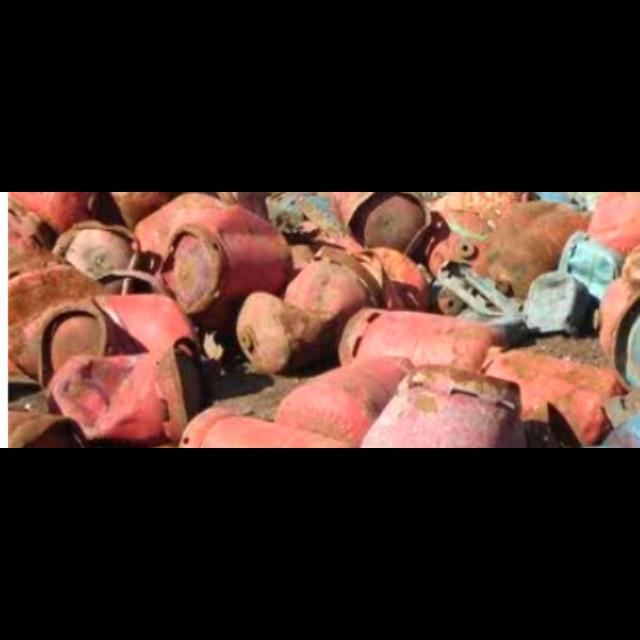Cylinders: (341, 308, 506, 374)
